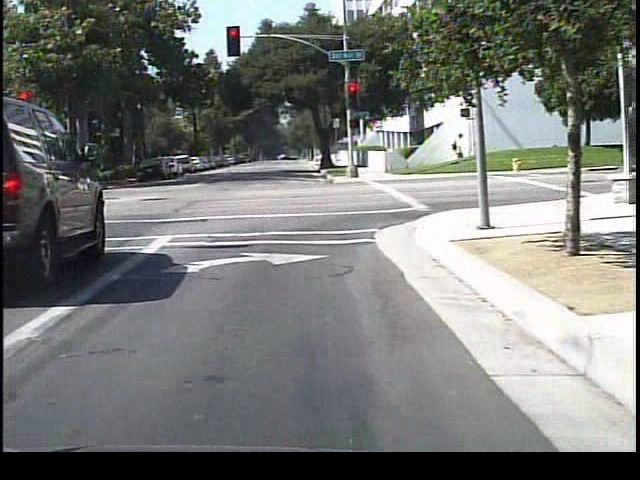person: (446, 128, 470, 173)
